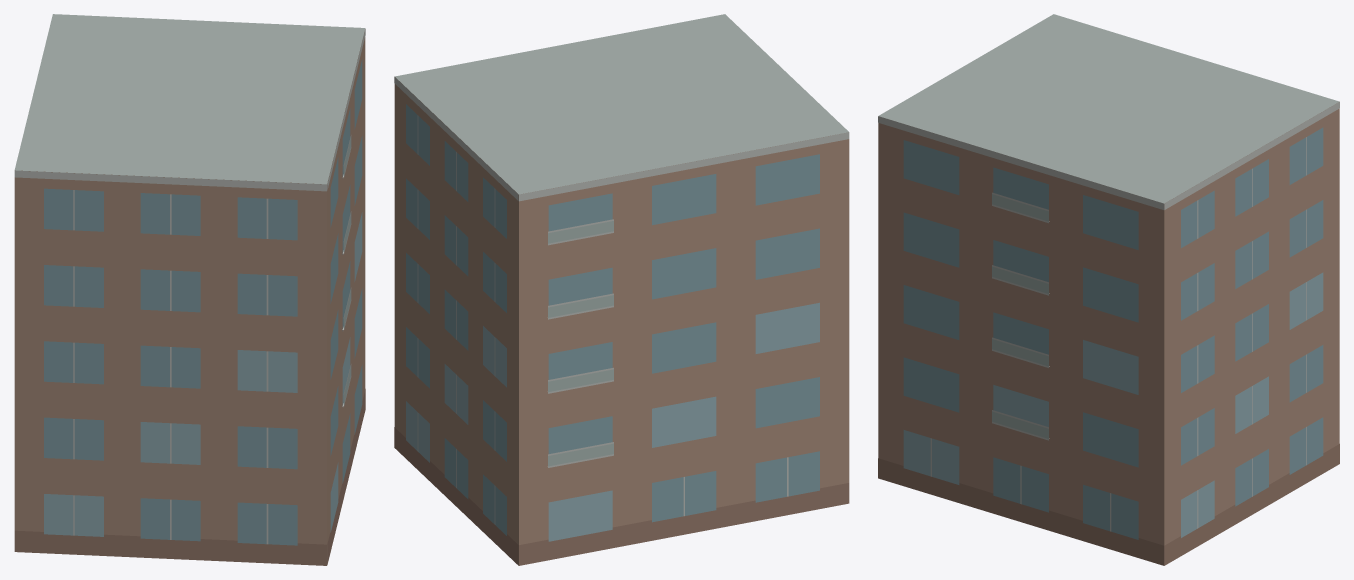
The model's file is survey-upis-32652977.glb.
3 views of the same model, side by side, from view 1: azimuth 30°, elevation 25°; view 2: azimuth 150°, elevation 25°; view 3: azimuth 270°, elevation 25° (orthographic). The views are drawn at different scales.
Parts seen in each view (by area): view 1: survey-upis-32652977.tmp; view 2: survey-upis-32652977.tmp; view 3: survey-upis-32652977.tmp.
Part boxes in pixels (<box>): survey-upis-32652977.tmp: <box>14,14,365,565</box>; survey-upis-32652977.tmp: <box>394,14,849,565</box>; survey-upis-32652977.tmp: <box>878,14,1339,565</box>.
Size of the model in its own units: 14.82 by 13.2 by 15.25.
